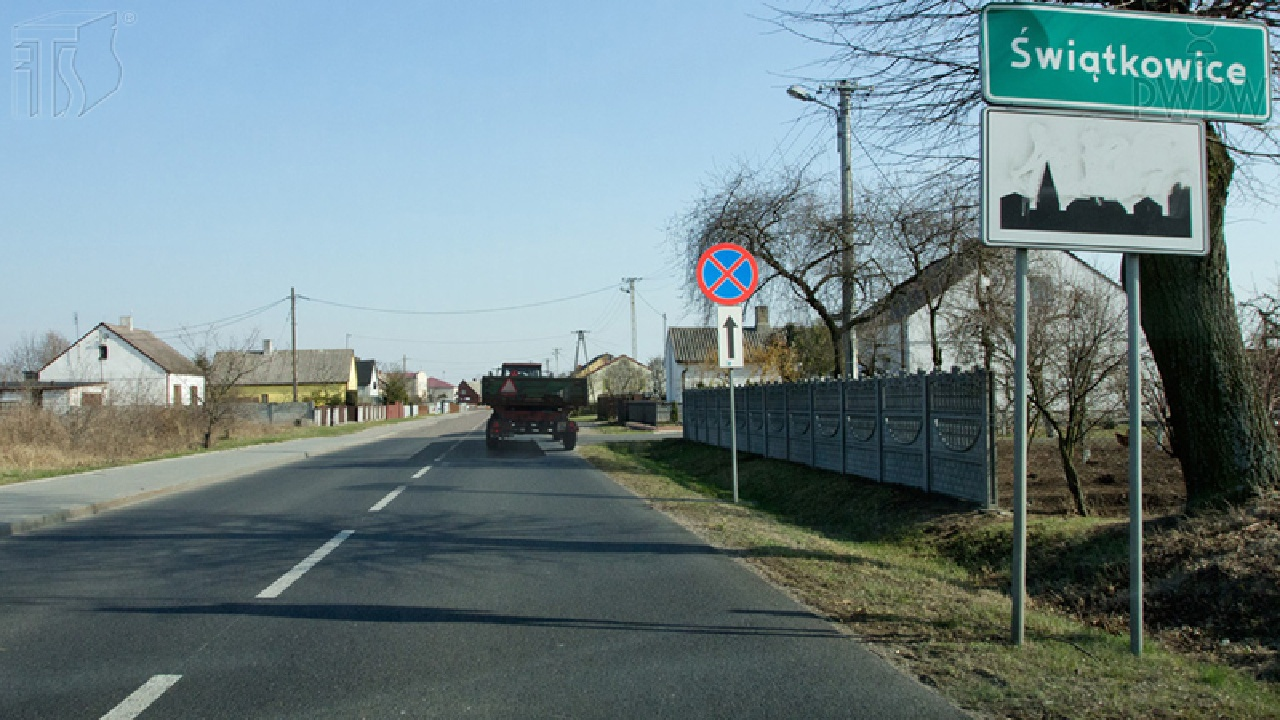B36: (695, 243, 759, 304)
D42: (980, 103, 1215, 258)
